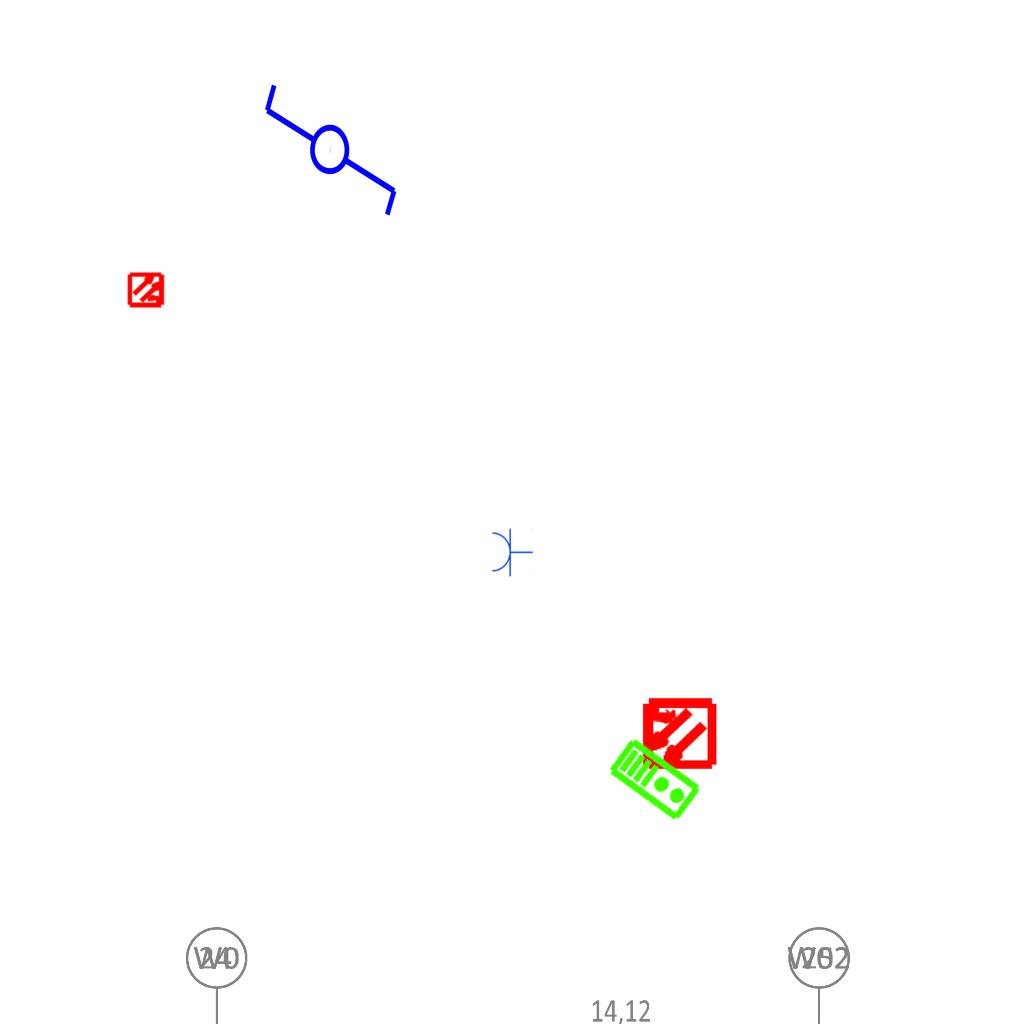Gegensprechanlage_mit_Video: (606, 734, 705, 824)
OT_Multisensormelder_(Kombination_RMO_WMD): (621, 677, 734, 790), (119, 262, 175, 318)
Schukosteckdose_einfach: (490, 527, 533, 577)
Wechselschalter: (260, 63, 404, 220)
